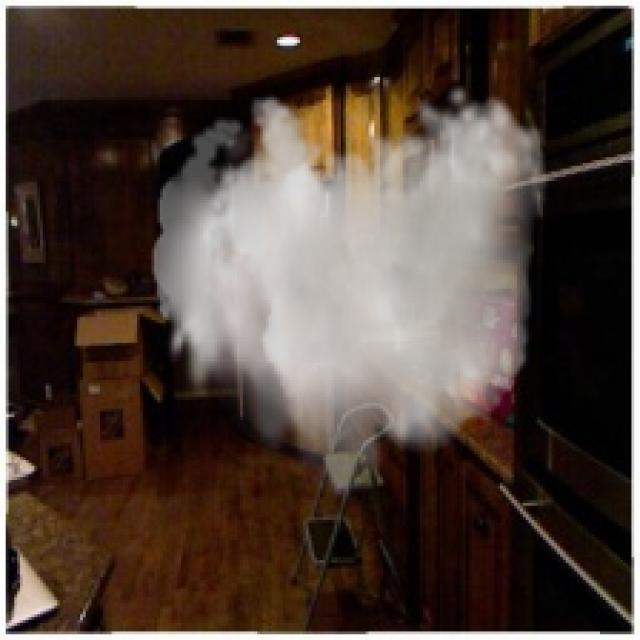Smoke: (152, 83, 548, 506)
